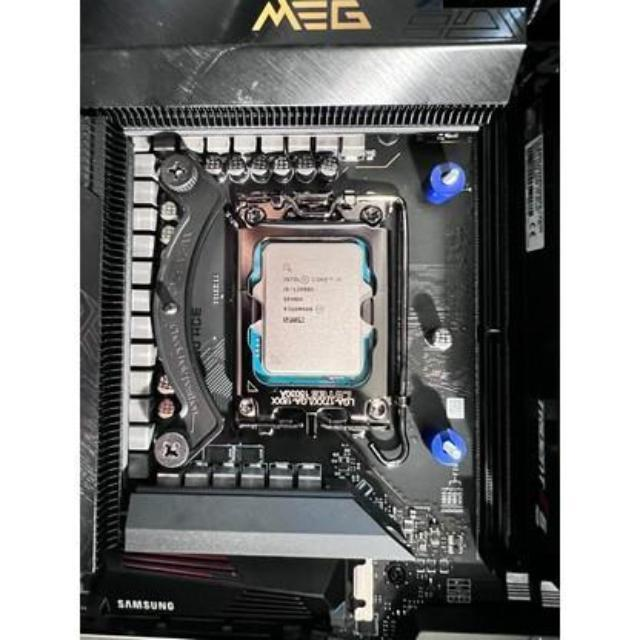CPU: (255, 241, 372, 379)
